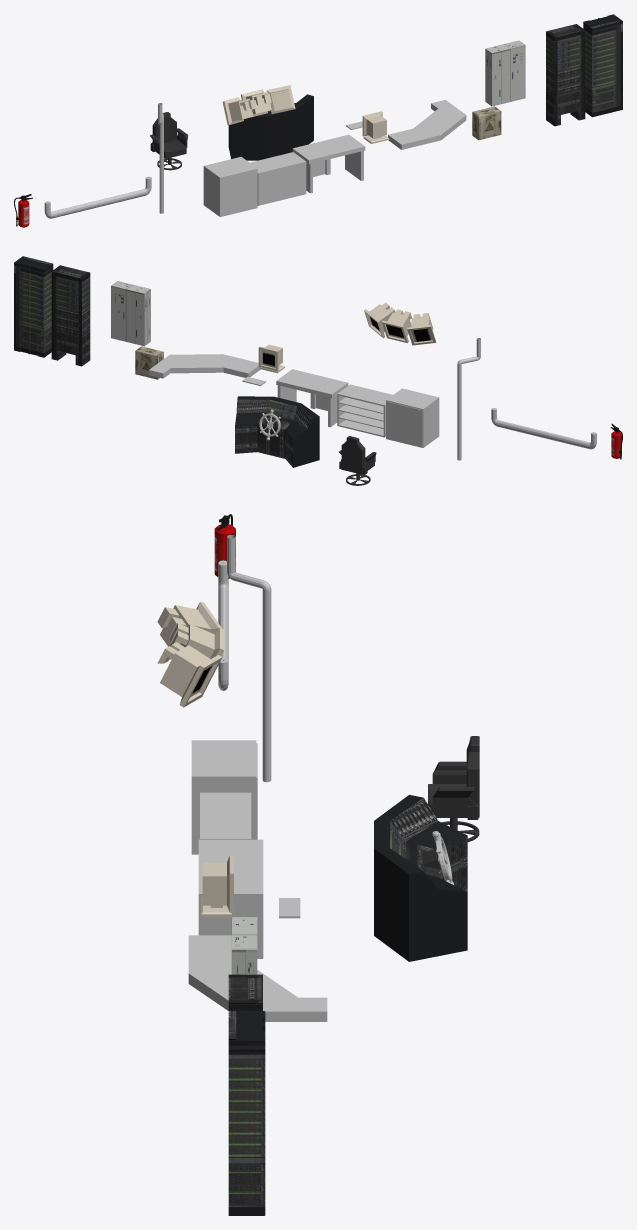
The model's file is furnishing 2.fbx.
3 renders of one model, top to bottom at view 1: azimuth 30°, elevation 25°; view 2: azimuth 150°, elevation 25°; view 3: azimuth 270°, elevation 25°, orthographic. The views are drawn at different scales.
Parts seen in each view (by area): view 1: bridge_Console, serverTower, orSomething, drawer, fuseBox.001, Cube, desk, navigator_desk, monitorCRT_cluster_front.002, chair, pipe.004, fuseBox (+3 smaller); view 2: bridge_Console, serverTower, orSomething, drawer, fuseBox.001, Cube, desk, monitorCRT_cluster_front.002, navigator_desk, chair, pipe.004, elbowPipe (+4 smaller); view 3: bridge_Console, orSomething, monitorCRT_cluster_front.002, navigator_desk, drawer, desk, chair, elbowPipe, Cube, monitorCRT.001, fuseBox.001, serverTower (+1 smaller).
Part boxes in pixels (left/top/right/bottom): bridge_Console: left=228, top=94, right=313, bottom=160; serverTower: left=546, top=24, right=585, bottom=126; orSomething: left=583, top=14, right=622, bottom=117; drawer: left=203, top=156, right=257, bottom=216; fuseBox.001: left=485, top=40, right=525, bottom=106; Cube: left=250, top=152, right=306, bottom=205; desk: left=292, top=134, right=365, bottom=193; navigator_desk: left=388, top=100, right=466, bottom=149; monitorCRT_cluster_front.002: left=222, top=85, right=295, bottom=125; chair: left=150, top=112, right=188, bottom=170; pipe.004: left=44, top=176, right=151, bottom=218; fuseBox: left=472, top=106, right=501, bottom=140; bridge_Console: left=235, top=396, right=319, bottom=467; serverTower: left=51, top=265, right=90, bottom=366; orSomething: left=14, top=256, right=53, bottom=357; drawer: left=386, top=388, right=439, bottom=447; fuseBox.001: left=111, top=281, right=150, bottom=346; Cube: left=337, top=384, right=392, bottom=437; desk: left=276, top=369, right=348, bottom=427; monitorCRT_cluster_front.002: left=364, top=302, right=435, bottom=345; navigator_desk: left=149, top=354, right=260, bottom=378; chair: left=339, top=436, right=376, bottom=485; pipe.004: left=491, top=408, right=596, bottom=449; elbowPipe: left=457, top=338, right=480, bottom=460; bridge_Console: left=374, top=795, right=467, bottom=961; orSomething: left=228, top=1011, right=265, bottom=1215; monitorCRT_cluster_front.002: left=157, top=601, right=224, bottom=707; navigator_desk: left=188, top=935, right=327, bottom=1021; drawer: left=191, top=740, right=257, bottom=854; desk: left=198, top=839, right=263, bottom=958; chair: left=428, top=736, right=479, bottom=841; elbowPipe: left=227, top=535, right=271, bottom=782; Cube: left=200, top=792, right=251, bottom=839; monitorCRT.001: left=201, top=855, right=233, bottom=917; fuseBox.001: left=231, top=917, right=257, bottom=974; serverTower: left=228, top=974, right=262, bottom=1010.
Bounding box in the file's own units: 1614 × 300 × 375.
